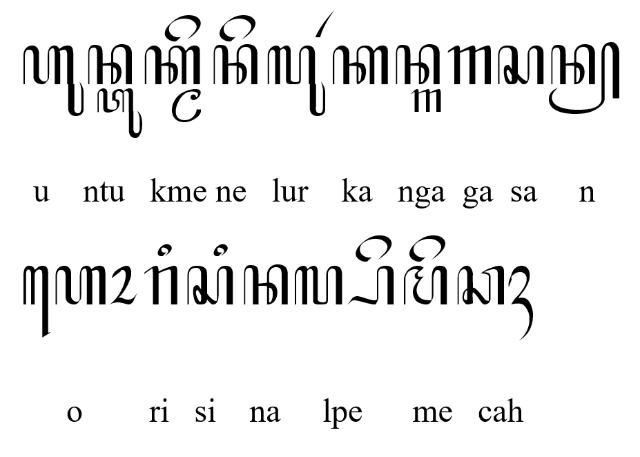-n: (548, 42, 620, 114)
_h1: (509, 264, 533, 342)
_m: (170, 88, 202, 123)
_p: (347, 266, 395, 306)
_r1: (314, 10, 332, 40)
c: (456, 264, 506, 306)
e: (354, 234, 392, 264), (164, 14, 202, 42), (218, 14, 256, 42), (408, 235, 446, 263)
e1: (22, 265, 50, 337)
g: (448, 44, 492, 86), (412, 88, 442, 114)
h: (55, 265, 107, 305)
hu: (22, 44, 84, 116)
i: (157, 242, 173, 256), (213, 244, 229, 258)
k: (144, 44, 200, 86), (332, 45, 388, 85)
l: (294, 266, 344, 306)
lu: (268, 44, 326, 116)
m: (403, 264, 447, 306)
n: (213, 43, 259, 86), (88, 44, 134, 86), (395, 43, 441, 85), (243, 264, 289, 306)
o: (110, 265, 138, 305)
r: (144, 265, 178, 305)
s: (497, 45, 545, 85), (186, 265, 234, 305)
tu: (96, 88, 144, 140)
